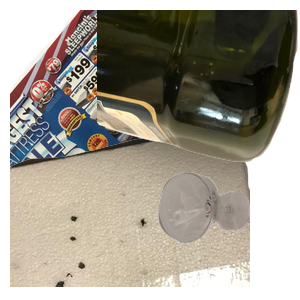glass: (156, 170, 300, 300)
paper: (10, 10, 240, 190)
plastic: (97, 10, 300, 165)
trash: (10, 120, 250, 300)
